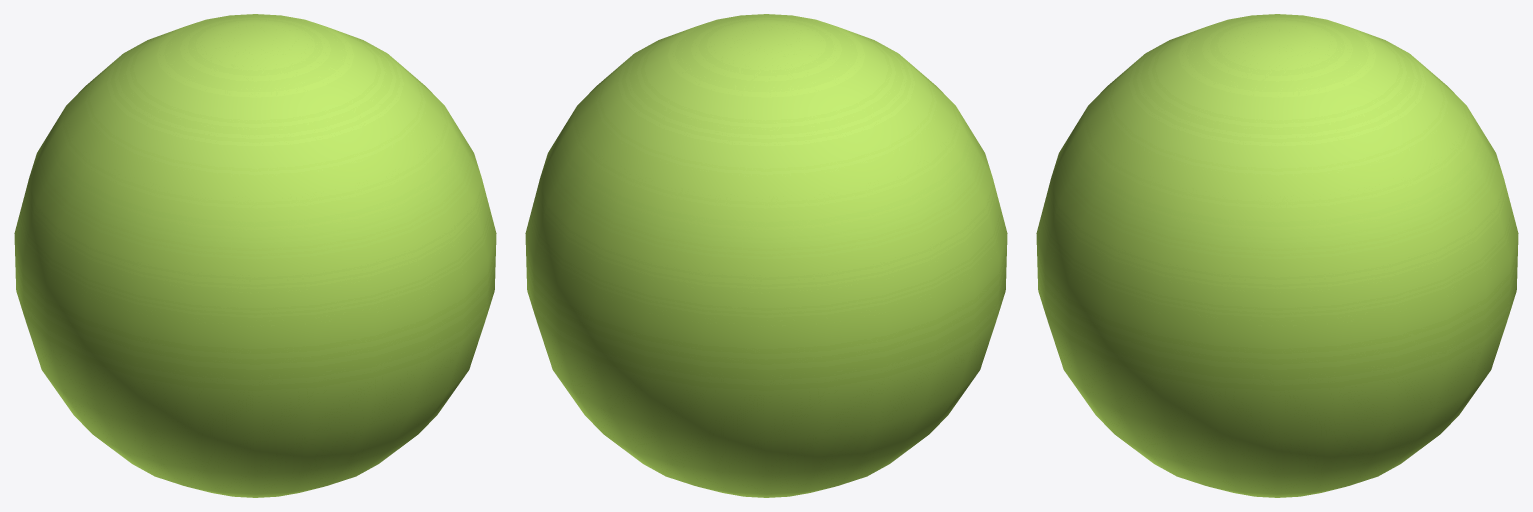
Rendered from ball-green.glb.
3 views of the same model, side by side, from view 1: azimuth 30°, elevation 25°; view 2: azimuth 150°, elevation 25°; view 3: azimuth 270°, elevation 25° (orthographic).
Parts seen in each view (by area): view 1: ball-green; view 2: ball-green; view 3: ball-green.
Part boxes in pixels (x1=…): ball-green: x1=14, y1=14, x2=496, y2=497; ball-green: x1=525, y1=14, x2=1007, y2=497; ball-green: x1=1036, y1=14, x2=1518, y2=497.
Bounding box in the file's own units: 0.0699 × 0.0698 × 0.0699.
Materials: 1 (1 with a texture image).
